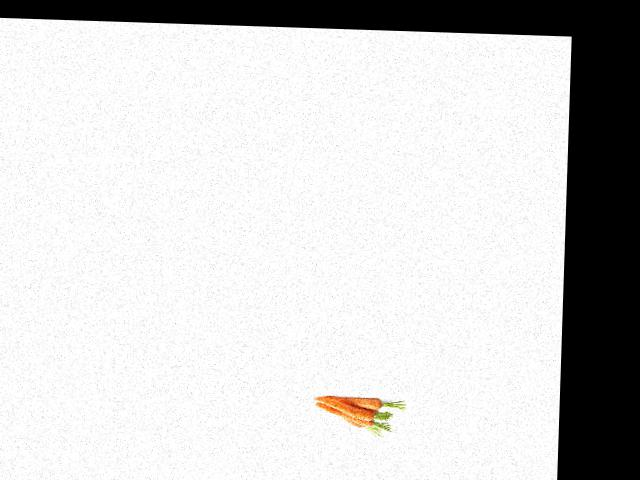carrot: (313, 393, 381, 409)
